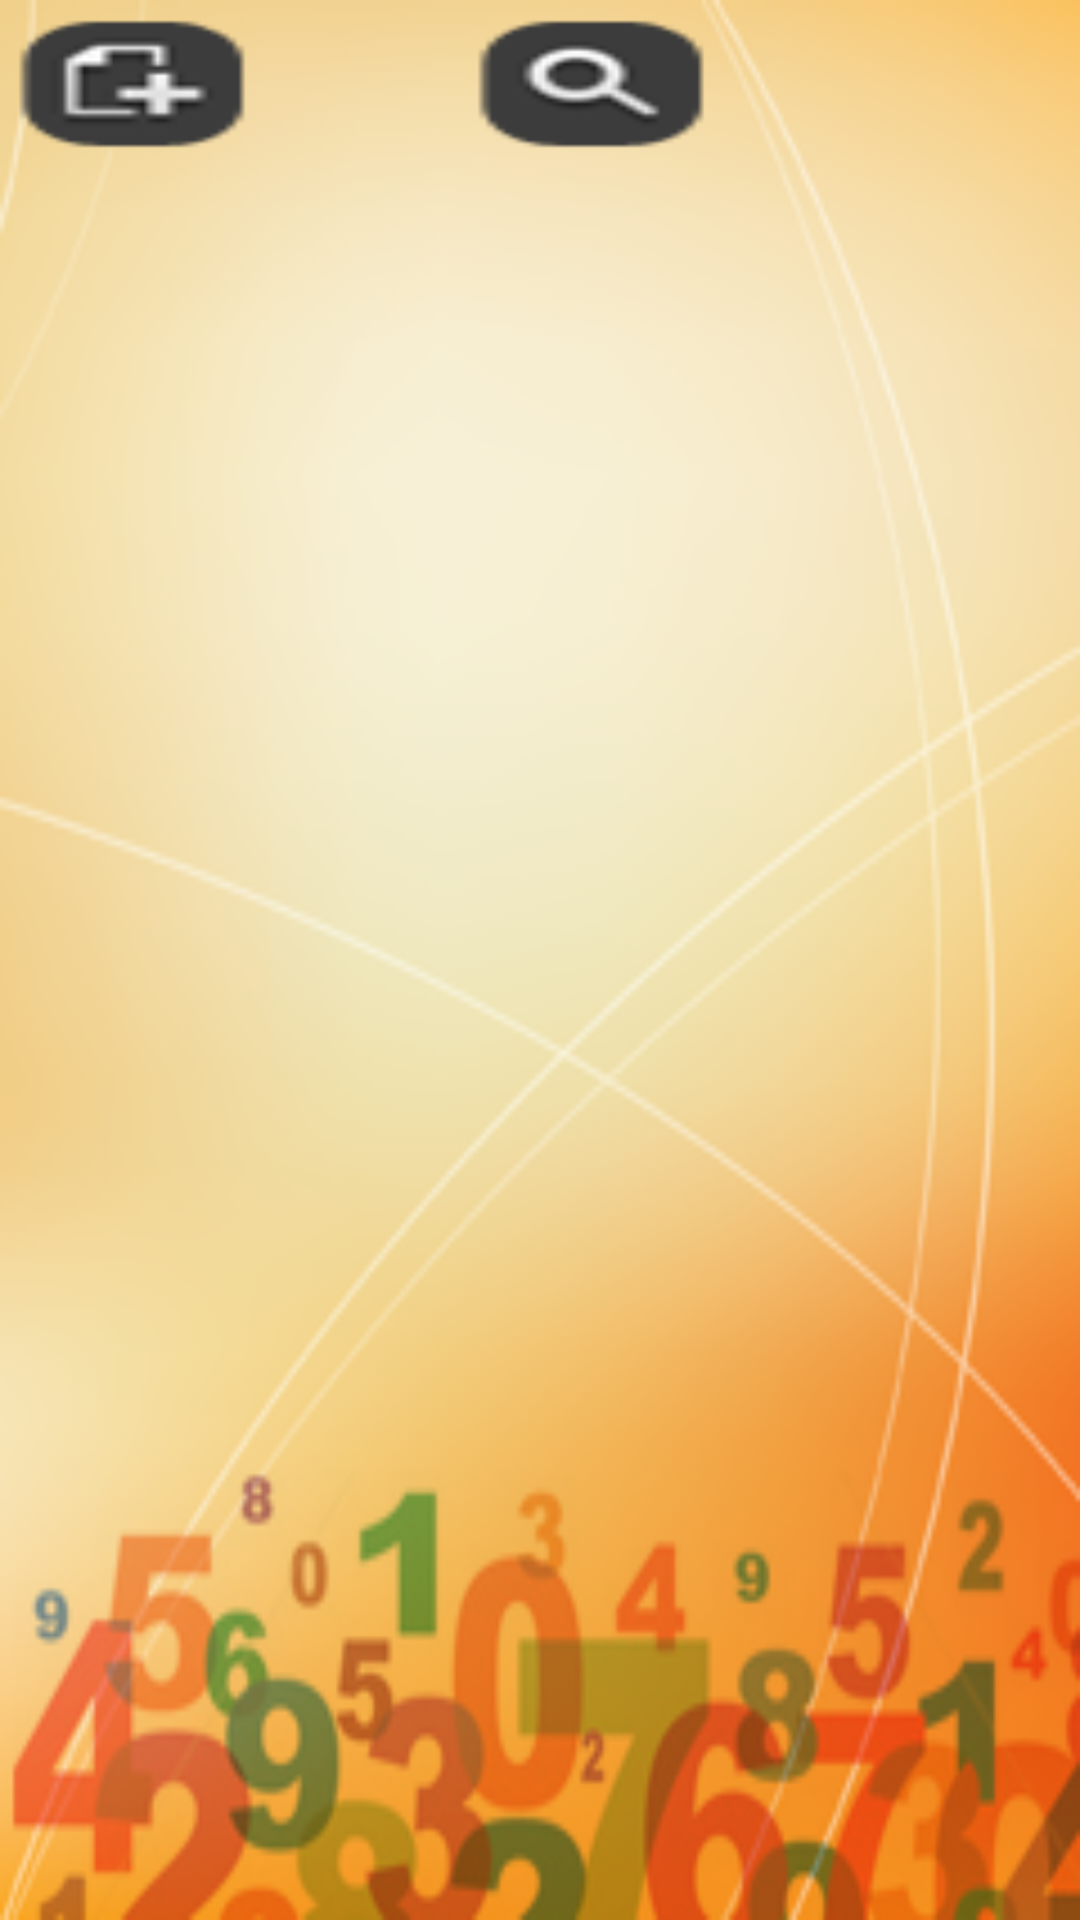

Icons on this 1080w x 1920h Android screen, each with the point to tap as point (x, y):
add: point (134, 87)
search: point (591, 78)
